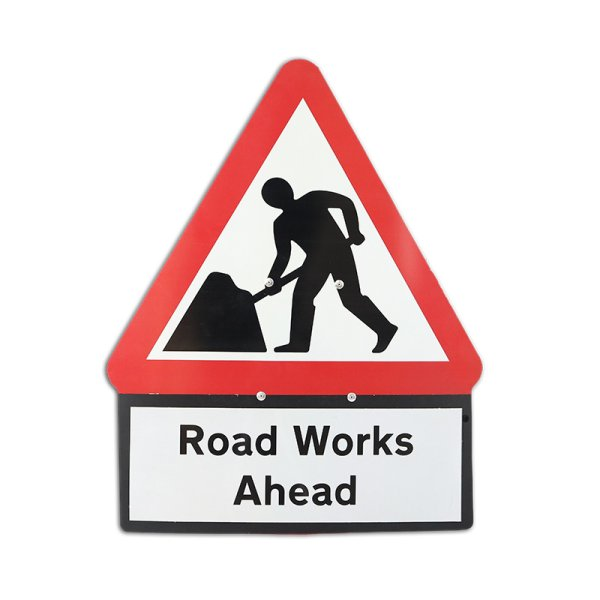Road_workahead: (106, 57, 490, 399)
